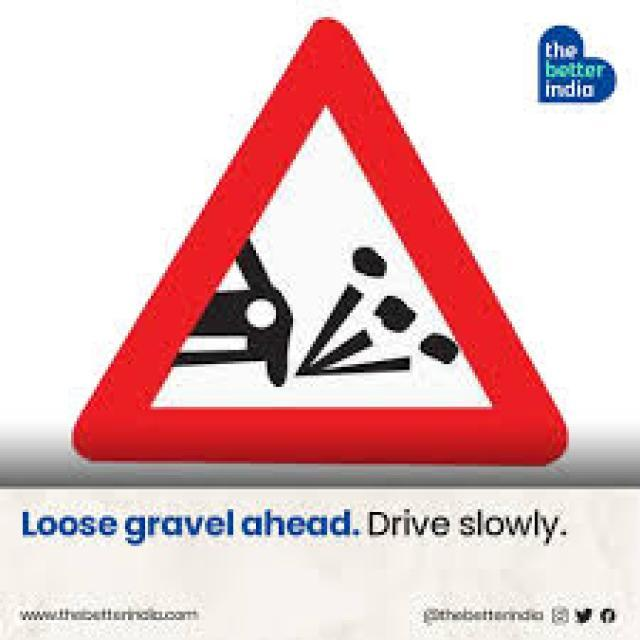loose gravel: (65, 26, 565, 472)
